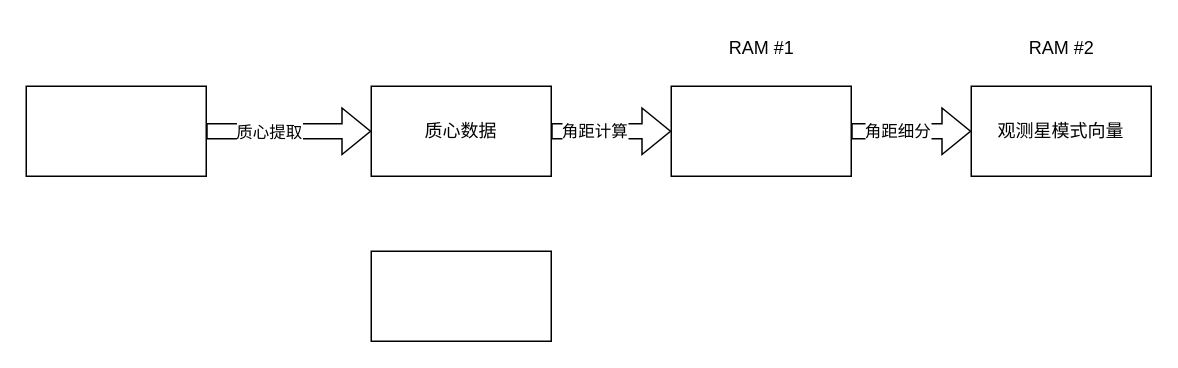
This 1178x368 diagram has some shape labels left out. Each missing label, with the centre of its shape:
星图: point 115,130
距离矩阵: point 760,130
